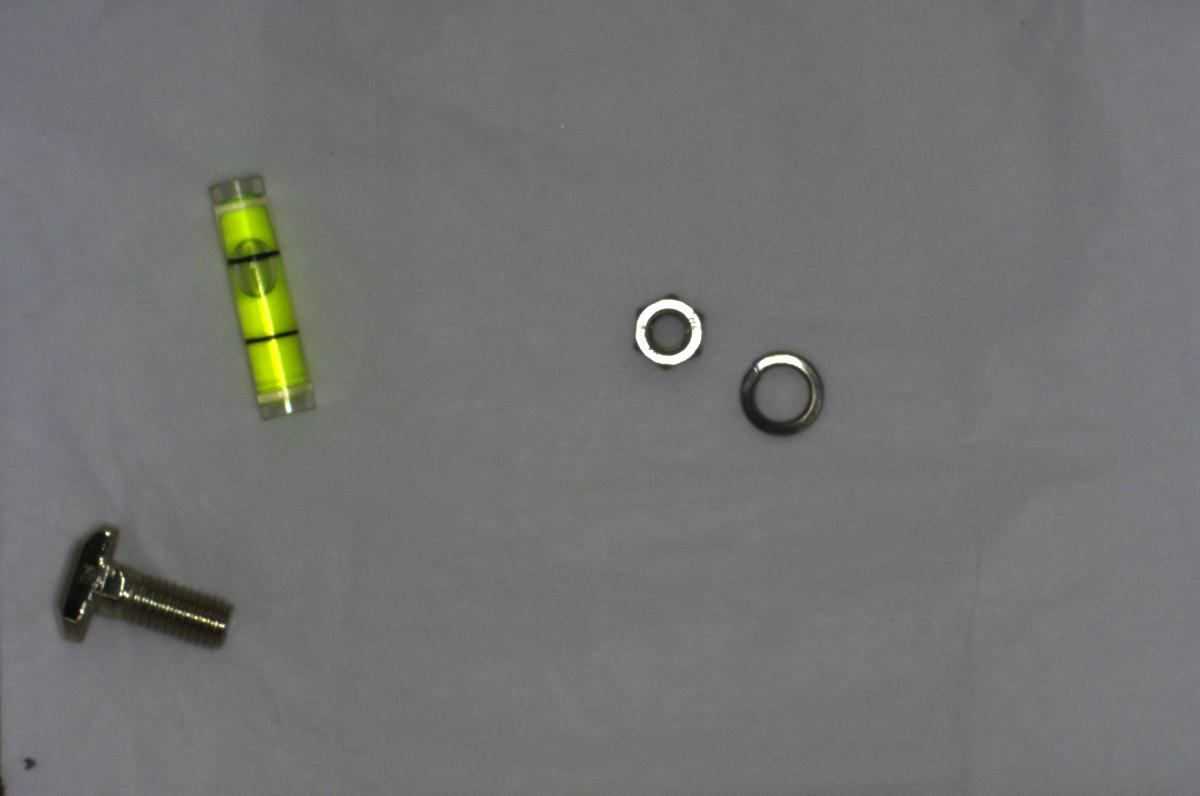Hexagon nut: (622, 288, 717, 378)
Horizontal bubble: (194, 158, 321, 429)
Spring washer: (732, 341, 828, 443)
T-shaped screw: (44, 516, 241, 665)
